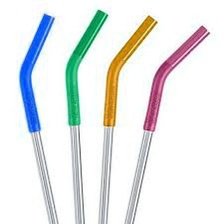drinking_straw: (119, 21, 213, 223), (93, 11, 160, 224), (62, 4, 112, 223), (13, 10, 63, 223)
